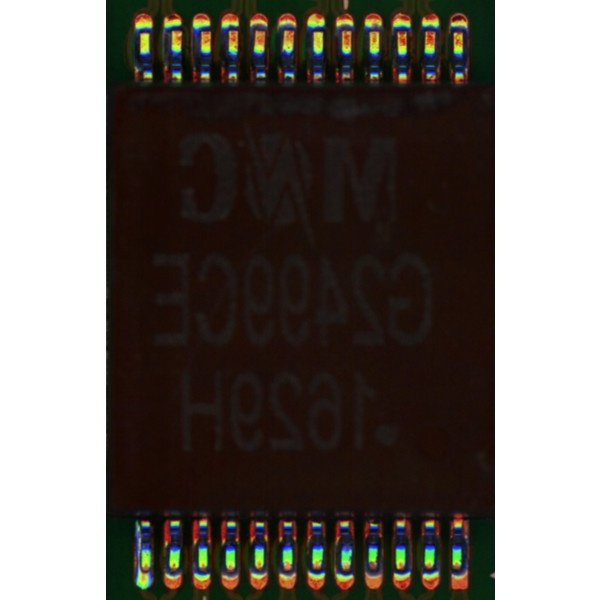Bad_podu: (140, 564, 149, 580)
Bad_qiaojiao: (136, 520, 142, 567)
